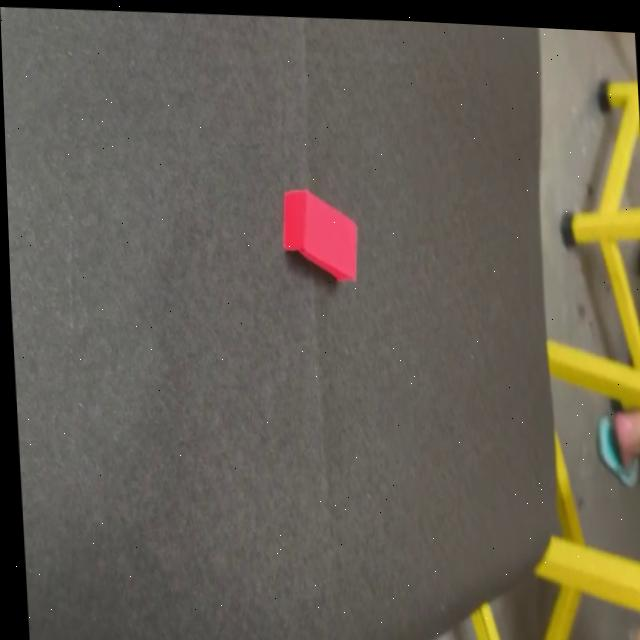red block: (280, 186, 361, 286)
